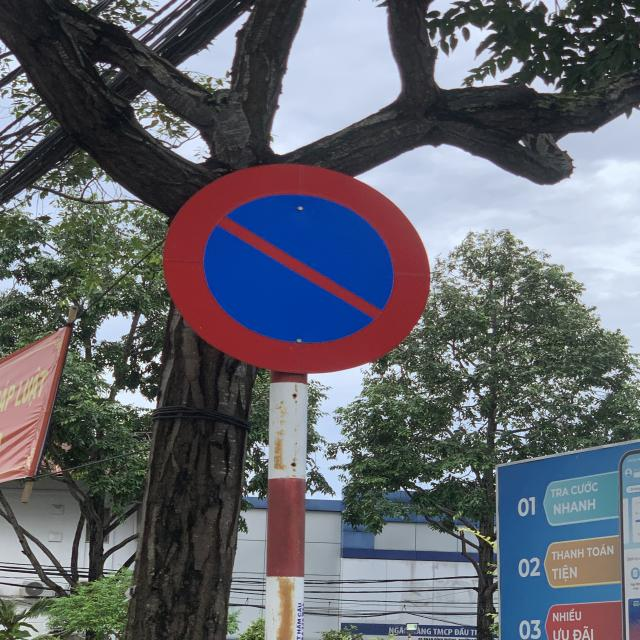Cam_Dau_Xe: (160, 165, 430, 377)
